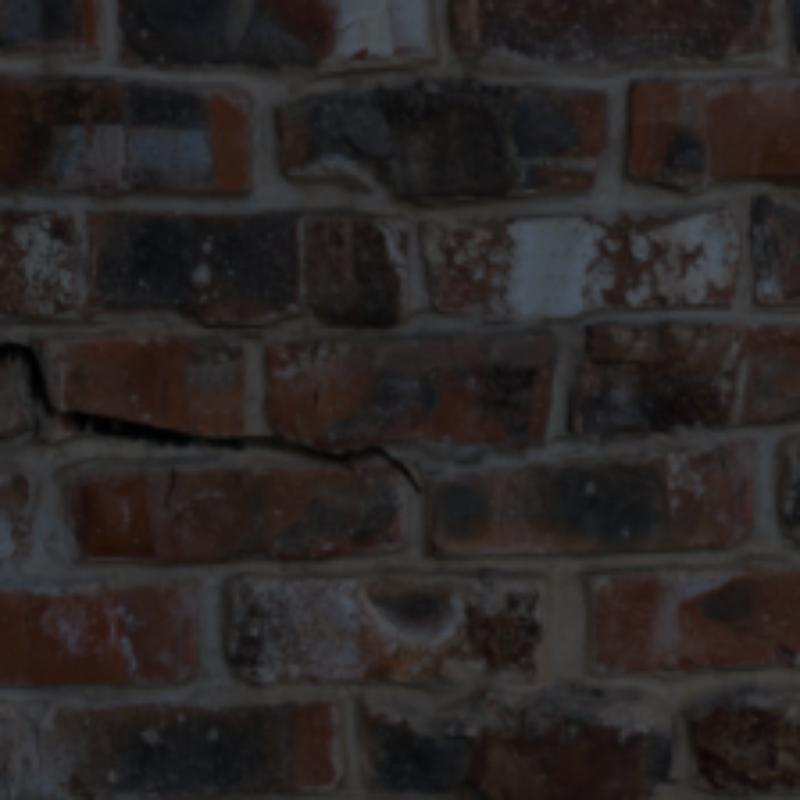pothole: (0, 343, 418, 489)
